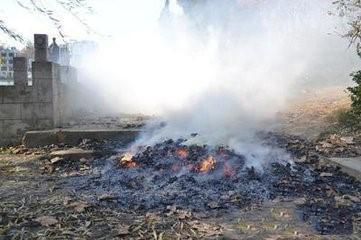fire: (109, 126, 255, 184)
